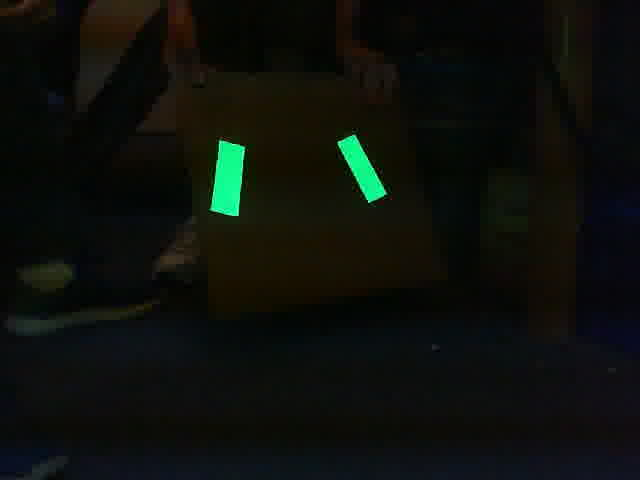target: (208, 134, 390, 220)
